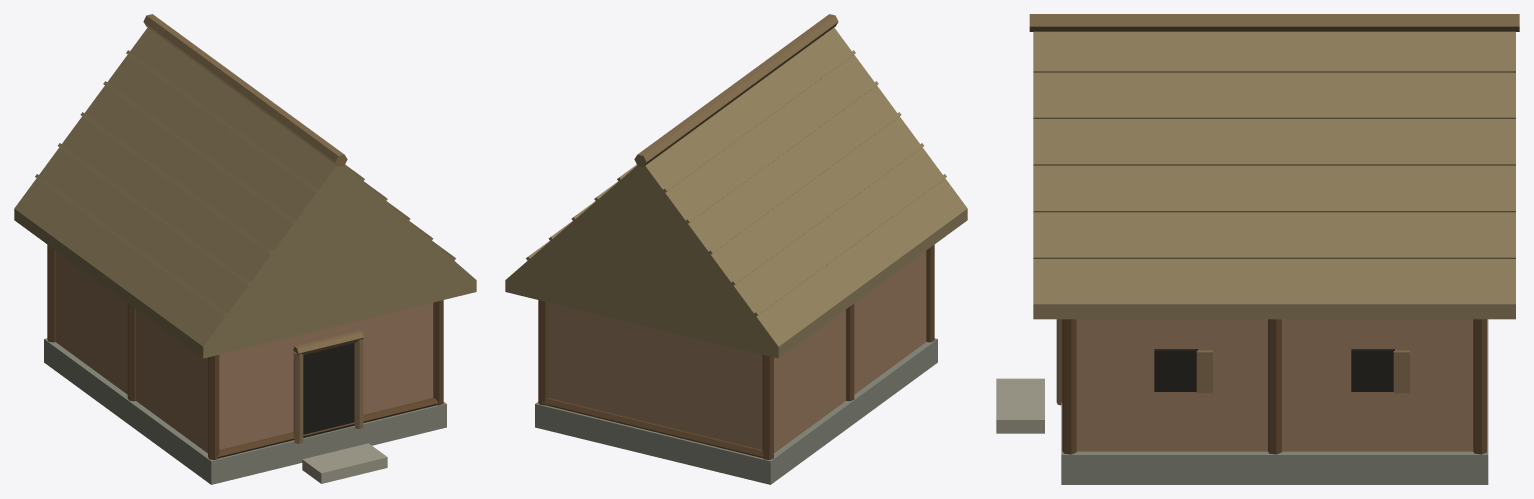
Rendered from house_compact.glb.
The picture shows the model from 3 angles, left to right: view 1: azimuth 30°, elevation 25°; view 2: azimuth 150°, elevation 25°; view 3: azimuth 270°, elevation 25°; orthographic projection. The views are drawn at different scales.
Visible parts, largest first — view 1: house_compact; view 2: house_compact; view 3: house_compact.
Part boxes in pixels (x1,y1,x2,y2): house_compact: [14, 14, 476, 484]; house_compact: [505, 14, 967, 484]; house_compact: [996, 14, 1519, 484].
Size of the model in its own units: 5.36 by 5.83 by 6.96.
